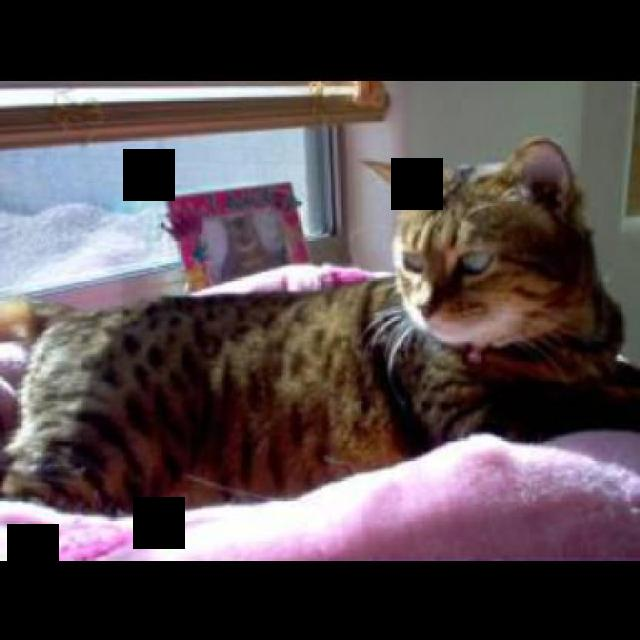unauthorized: (0, 134, 638, 517)
